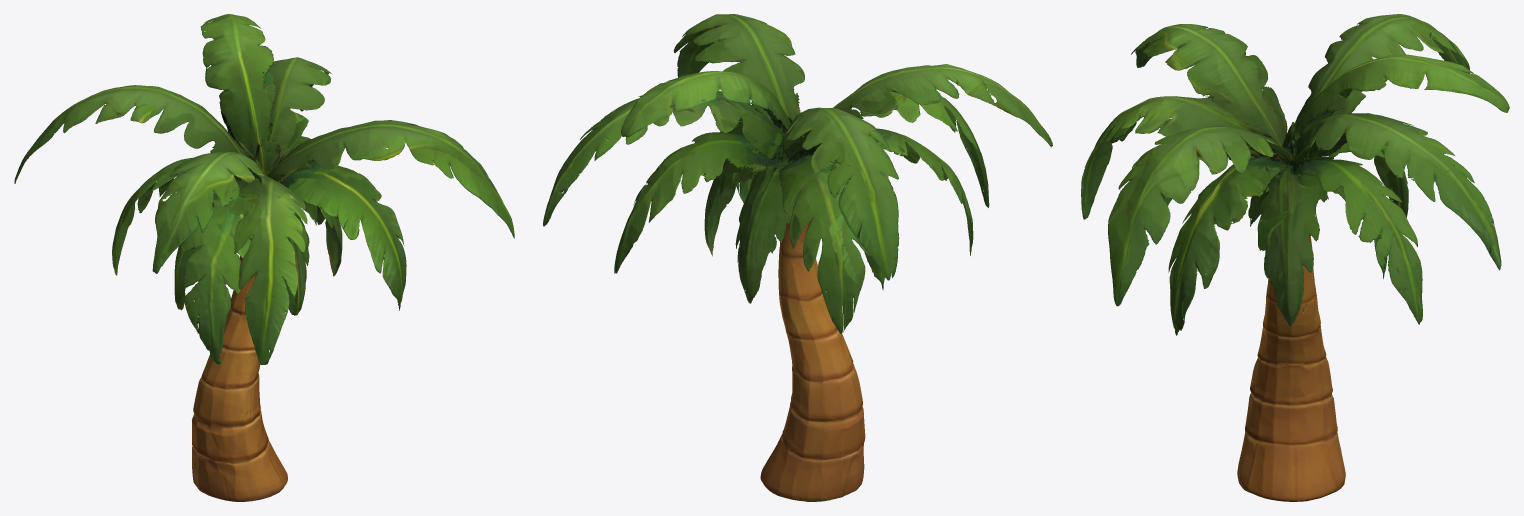
File: tree.glb
The picture shows the model from 3 angles, left to right: view 1: azimuth 30°, elevation 25°; view 2: azimuth 150°, elevation 25°; view 3: azimuth 270°, elevation 25°; orthographic projection. The views are drawn at different scales.
Bounding box in the file's own units: 1.83 × 1.99 × 1.73.
Materials: 1 (1 with a texture image).
